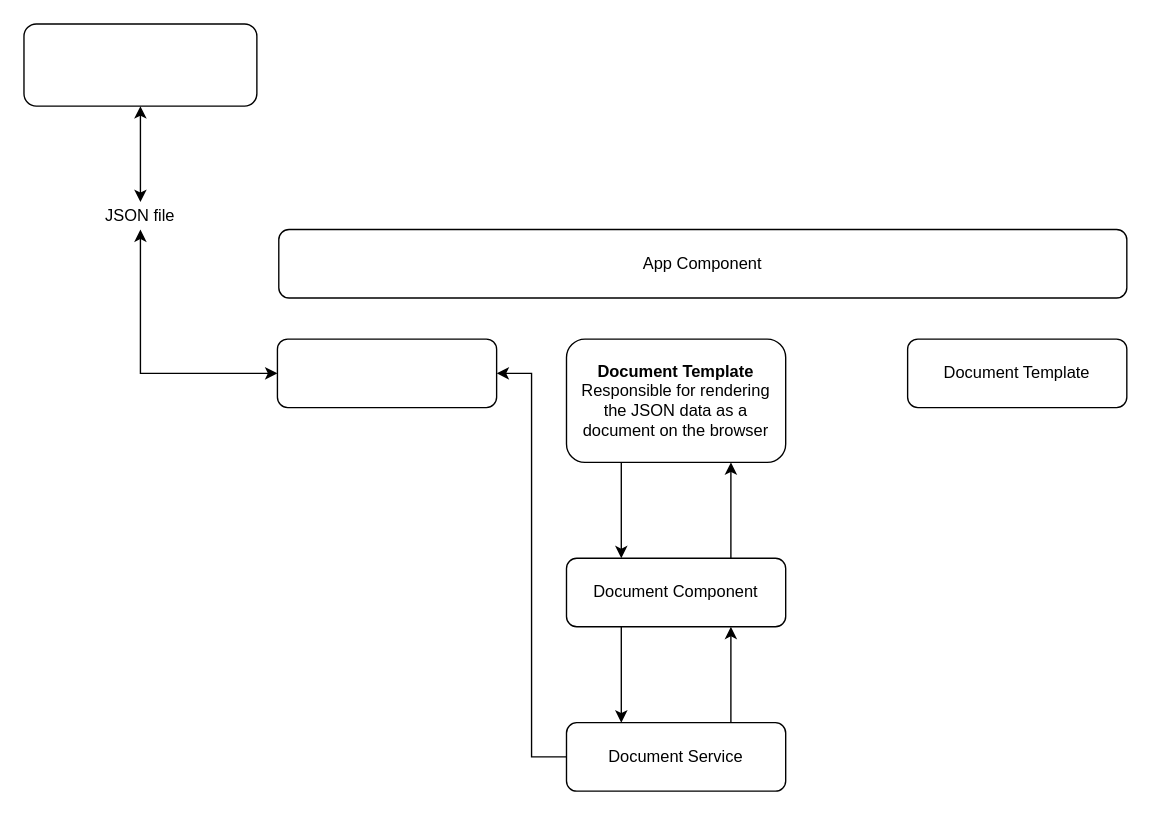
Image size: 1151x815. Some labels were removed from this diagram. The centre of each missing label's shape, as x and y in pixels:
"Data Service" goes at point 386,373.
"Server" goes at point 140,64.
